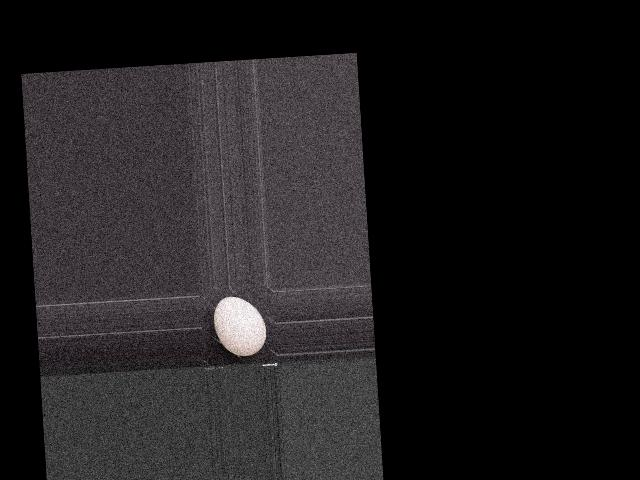egg: (212, 295, 267, 358)
